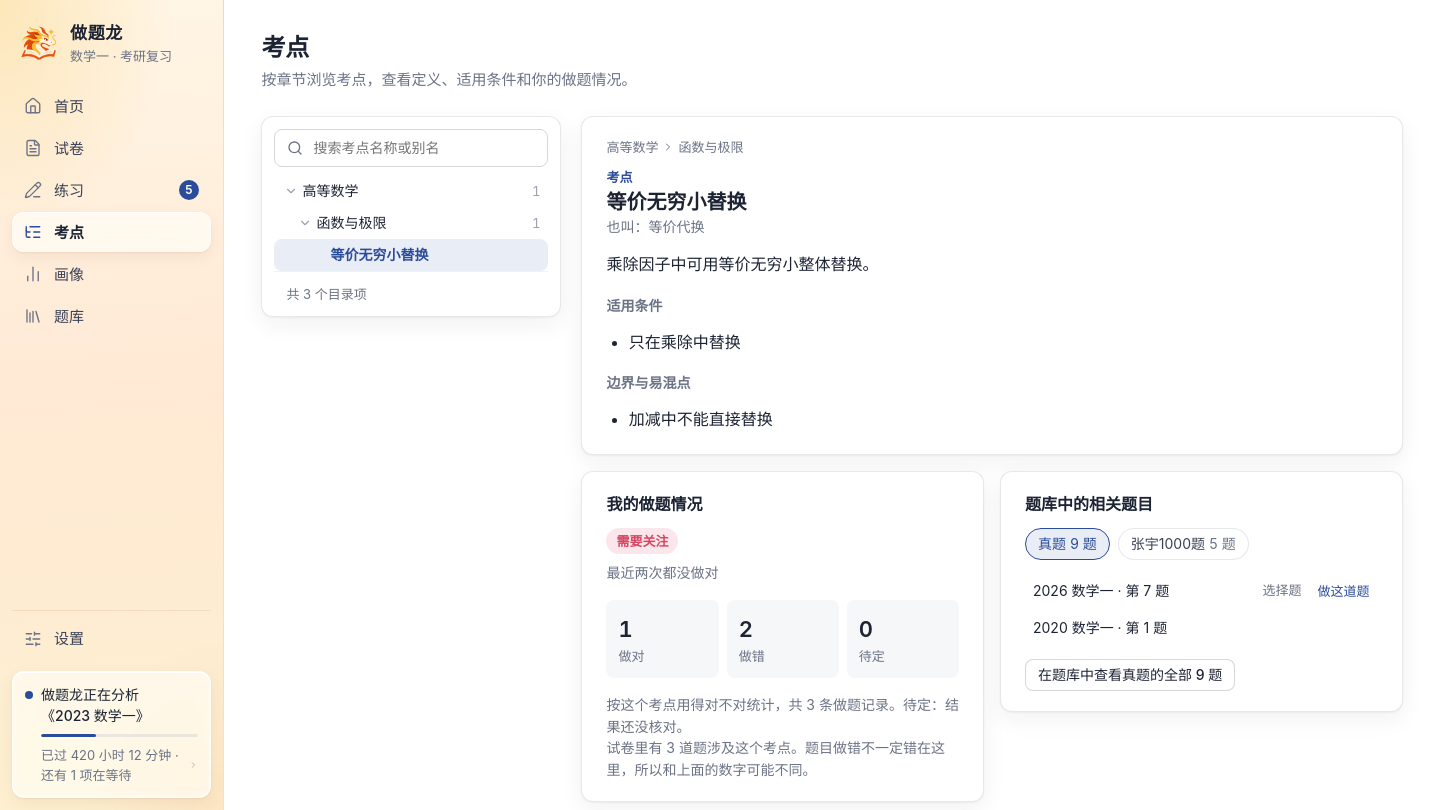
Test: topics page › shows the tree, searches by alias and opens a topic with its stats
Later steps or results of the test are not shown.
Expected: the text "乘除因子中可用等价无穷小整体替换。" is shown, [606,254,878,274]
Expected: the text "需要关注" is shown, [606,528,678,554]
Step 1. Click the button "张宇1000题 5 题" → {"x": 1183, "y": 544}, box [1118,528,1249,560]
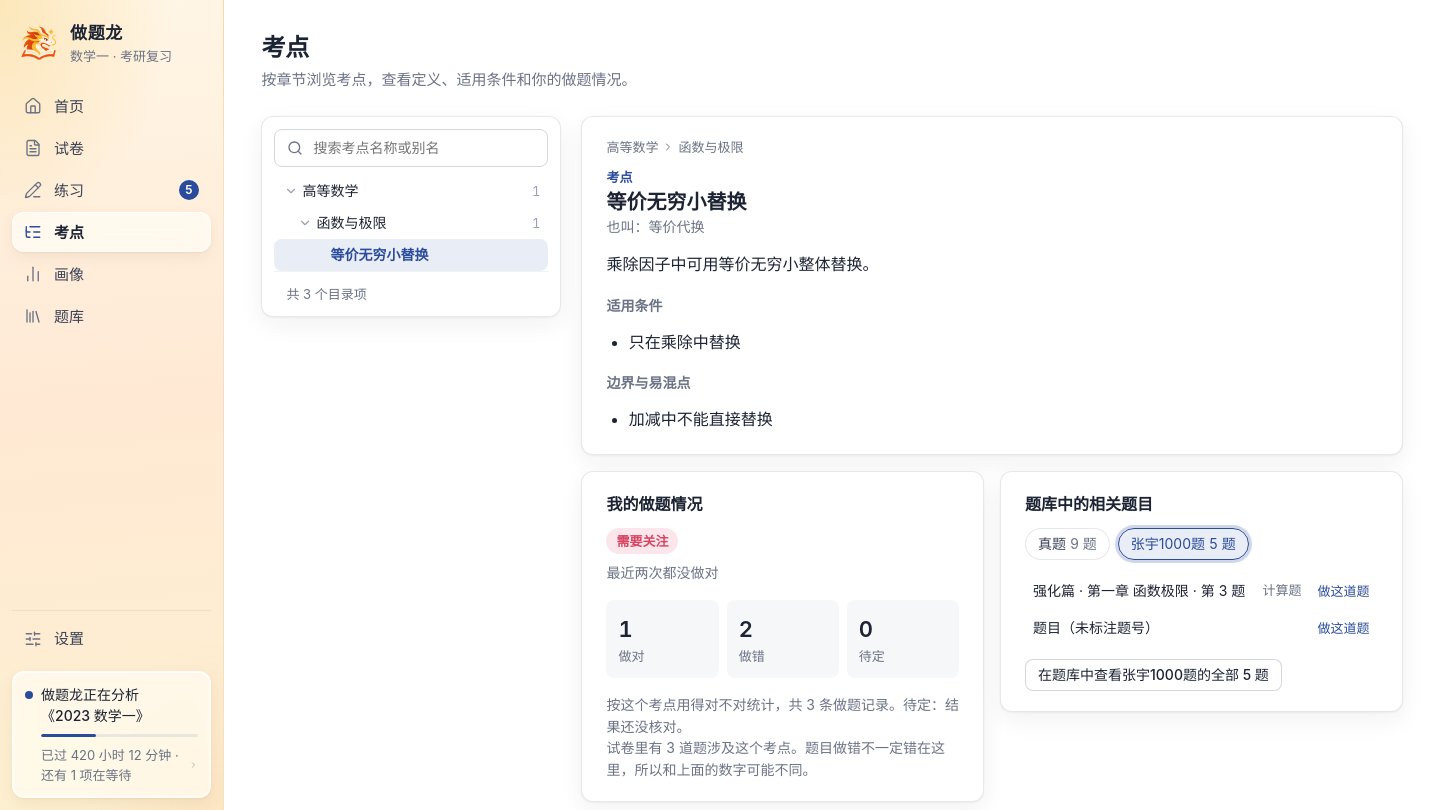
Expected: the link "强化篇 · 第一章 函数极限 · 第 3 题 计算题" has attribute href="/bank?collection=zhangyu-1000&topic=a1&open=zy-q-3", [1033,582,1302,599]
